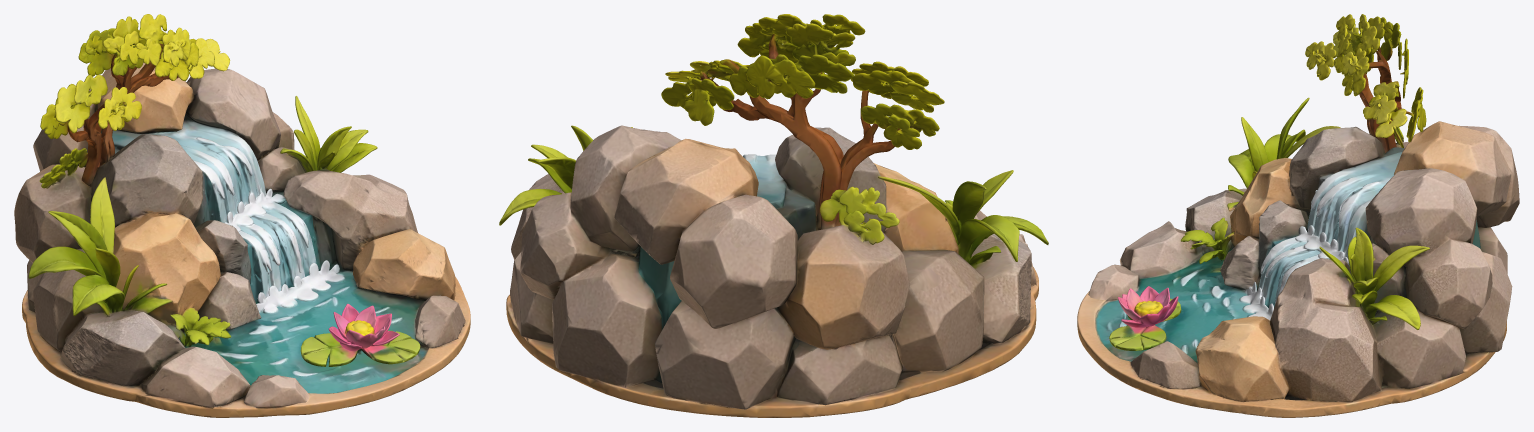
The model's file is waterfall.glb.
3 renders of one model, left to right at view 1: azimuth 30°, elevation 25°; view 2: azimuth 150°, elevation 25°; view 3: azimuth 270°, elevation 25°, orthographic. The views are drawn at different scales.
Parts seen in each view (by area): view 1: tripo_node_8221c261-9b68-40be-9126-f4771c02c59f; view 2: tripo_node_8221c261-9b68-40be-9126-f4771c02c59f; view 3: tripo_node_8221c261-9b68-40be-9126-f4771c02c59f.
Boxes of the visible parts, <box> form: tripo_node_8221c261-9b68-40be-9126-f4771c02c59f: <box>14,14,470,417</box>; tripo_node_8221c261-9b68-40be-9126-f4771c02c59f: <box>499,14,1048,417</box>; tripo_node_8221c261-9b68-40be-9126-f4771c02c59f: <box>1077,14,1519,417</box>.
Bounding box in the file's own units: 0.9816 × 0.6674 × 0.9715.
1 material, 1 textured.
